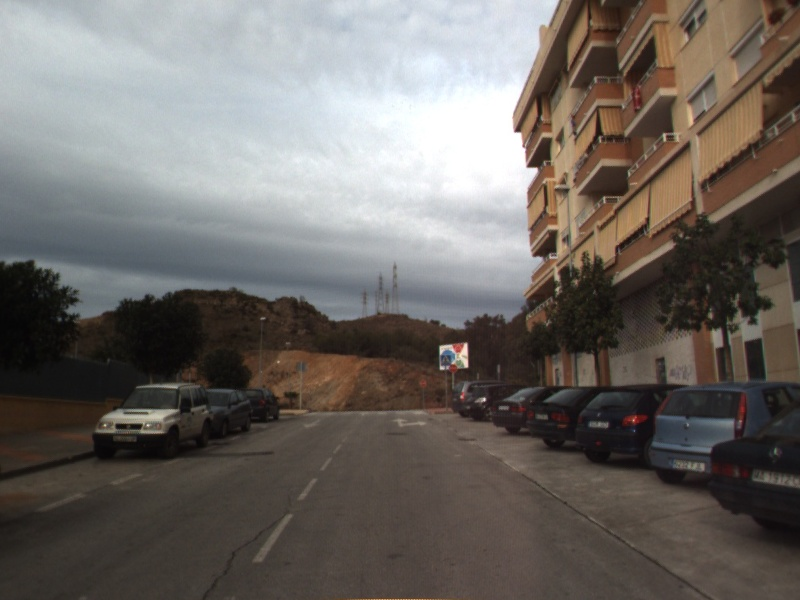STRAIGHT_RIGHT: (389, 415, 429, 429)
